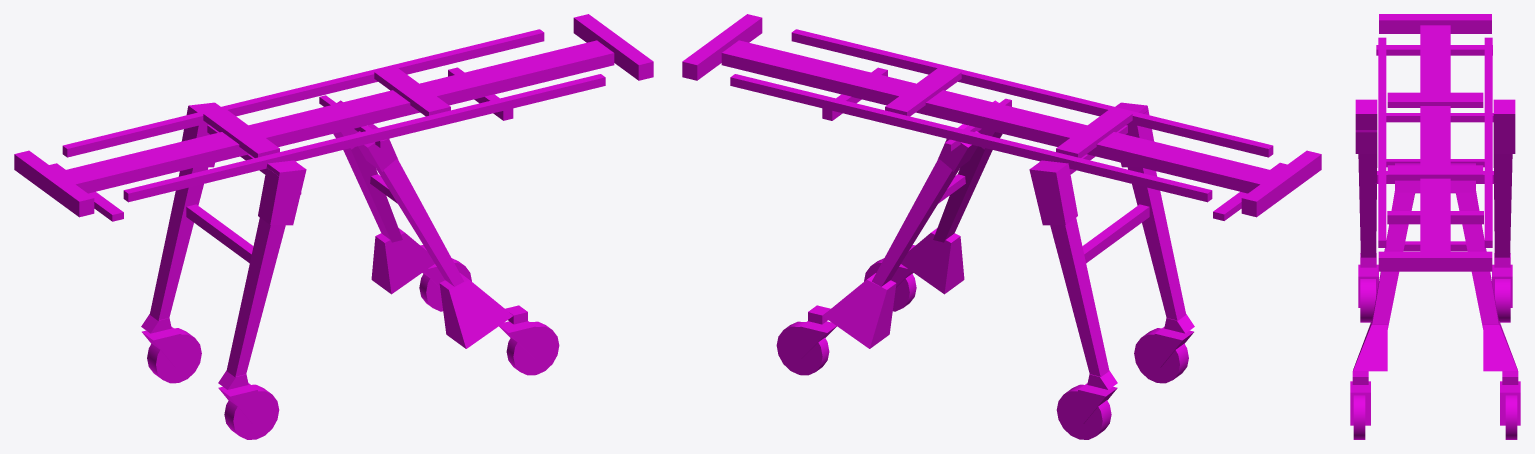
File: SM_StretcherBaseCollider.fbx
The picture shows the model from 3 angles, left to right: view 1: azimuth 30°, elevation 25°; view 2: azimuth 150°, elevation 25°; view 3: azimuth 270°, elevation 25°; orthographic projection. The views are drawn at different scales.
Visible parts, largest first — view 1: StretcherBaseCollision; view 2: StretcherBaseCollision; view 3: StretcherBaseCollision.
Boxes of the visible parts, x1=… form: StretcherBaseCollision: x1=14, y1=14, x2=653, y2=439; StretcherBaseCollision: x1=682, y1=14, x2=1321, y2=439; StretcherBaseCollision: x1=1350, y1=14, x2=1520, y2=439.
Bounding box in the file's own units: 196 × 88.42 × 57.87.
